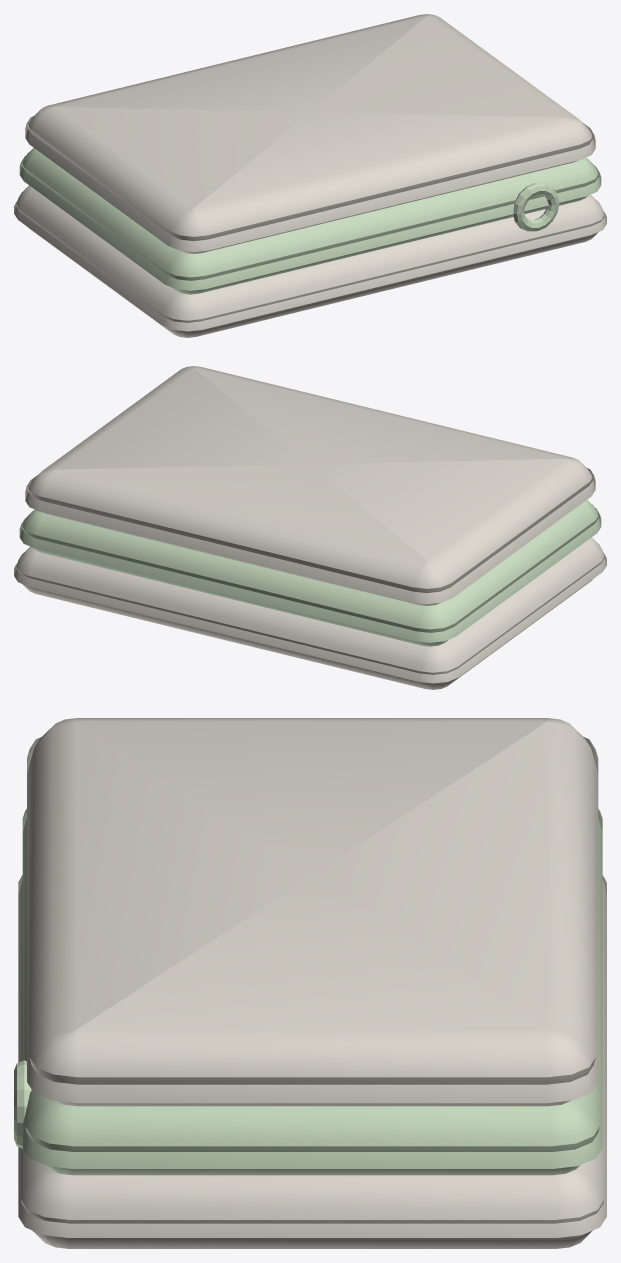
The model's file is jelly-friends-playroom-blanket-folded-82b9f264__27635.glb.
The picture shows the model from 3 angles, top to bottom: view 1: azimuth 30°, elevation 25°; view 2: azimuth 150°, elevation 25°; view 3: azimuth 270°, elevation 25°; orthographic projection. The views are drawn at different scales.
Parts seen in each view (by area): view 1: blanket-folded; view 2: blanket-folded; view 3: blanket-folded.
Boxes of the visible parts, x1,y1,x2,y2 form: blanket-folded: (14, 14, 606, 337); blanket-folded: (14, 366, 606, 689); blanket-folded: (14, 718, 606, 1248).
Size of the model in its own units: 0.503 by 0.133 by 0.3455.
